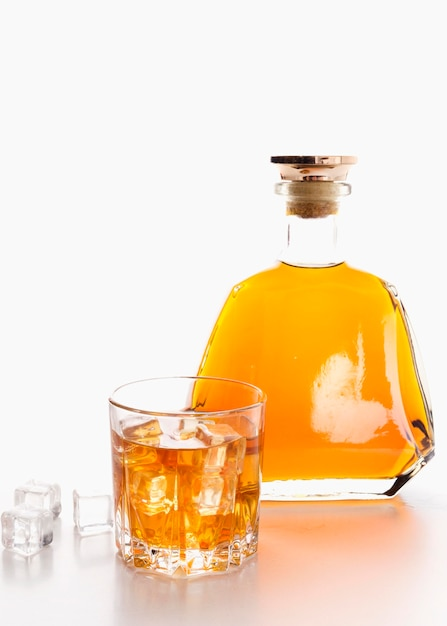alcohol: (185, 150, 437, 503), (100, 373, 269, 578)
